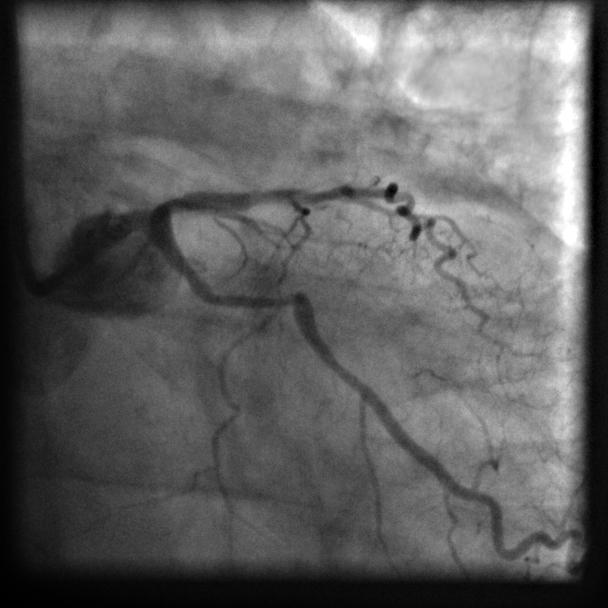Stenosis: (207, 279, 295, 313)
